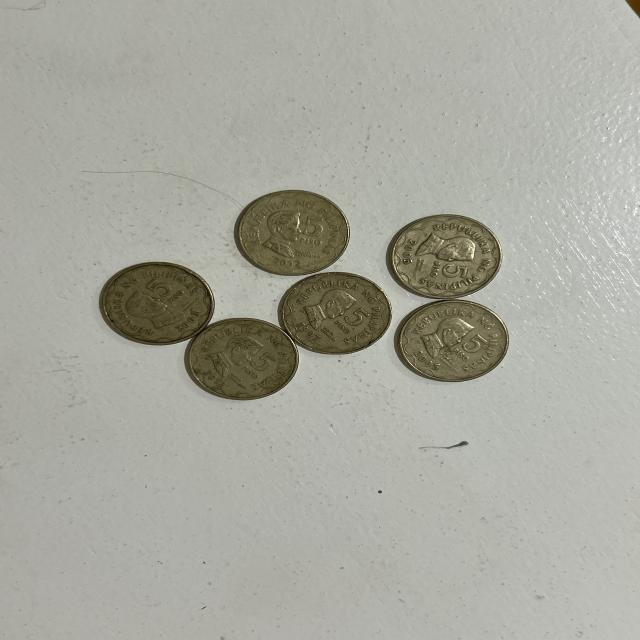5_Old_Front: (140, 276, 186, 314), (238, 346, 281, 381), (426, 259, 477, 286), (331, 306, 370, 337), (451, 332, 488, 361), (298, 212, 325, 246)
